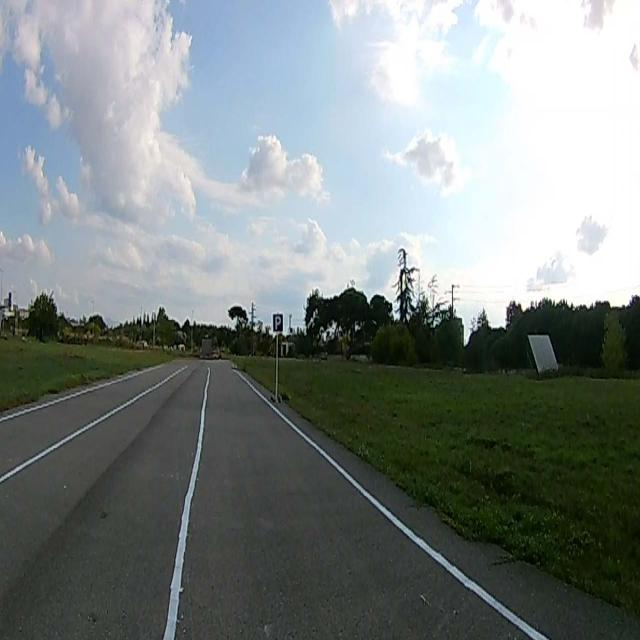park: (273, 313, 283, 333)
